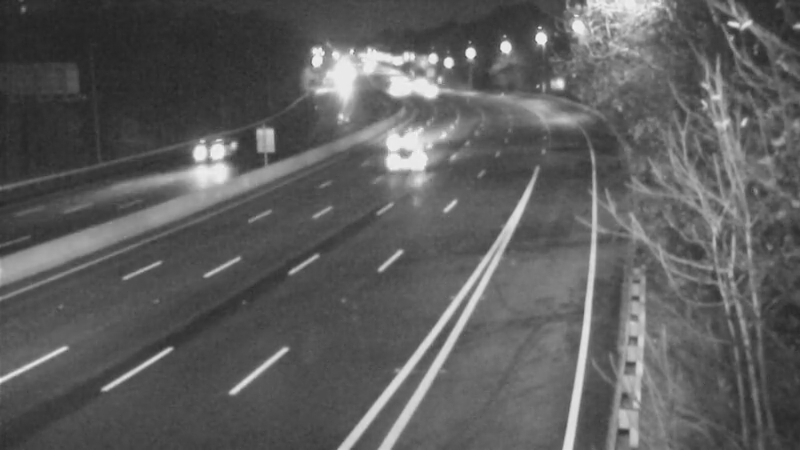vehicle: (372, 118, 452, 198), (171, 110, 251, 190), (383, 104, 433, 154)
